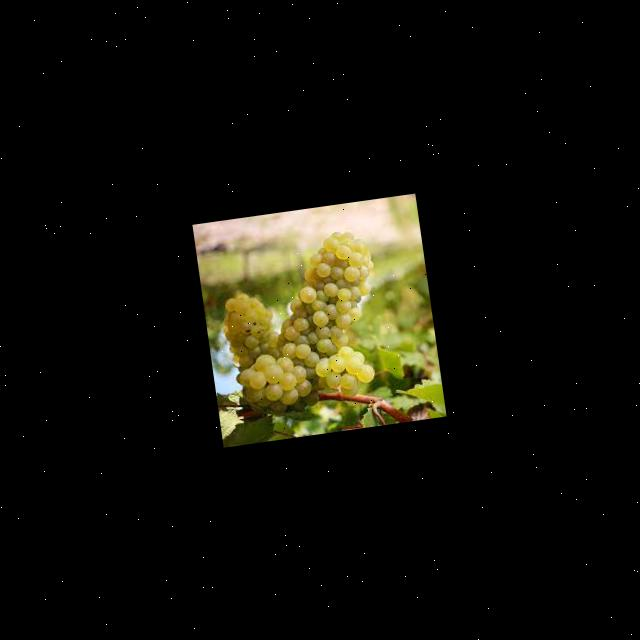grape: (212, 227, 392, 419)
